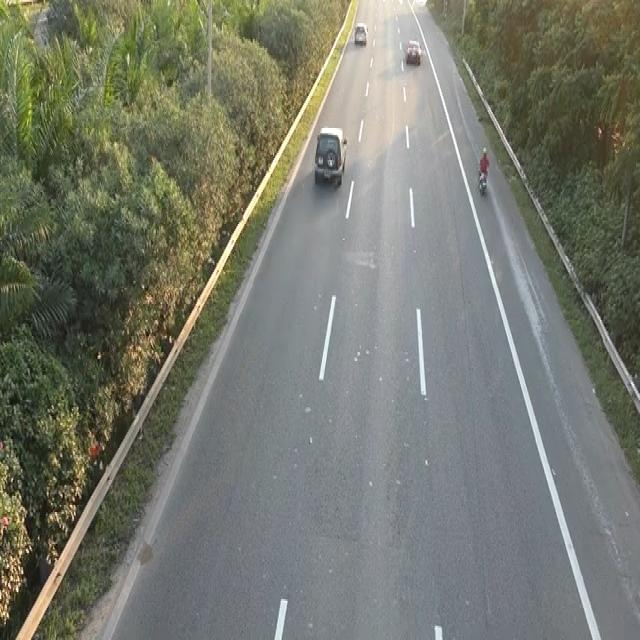car: (311, 122, 350, 194)
minibus: (476, 162, 489, 196)
